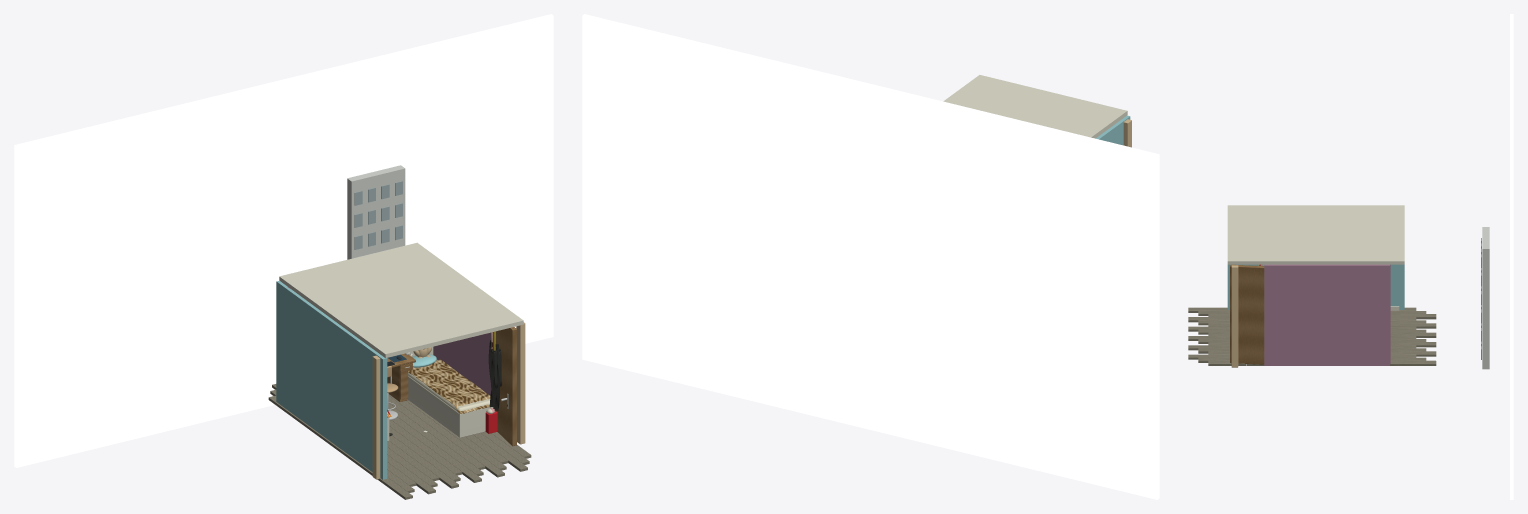
Rendered from astra.glb.
3 views of the same model, side by side, from view 1: azimuth 30°, elevation 25°; view 2: azimuth 150°, elevation 25°; view 3: azimuth 270°, elevation 25° (orthographic). The views are drawn at different scales.
Parts seen in each view (by area): view 1: Distant daylight, Ceiling, Left turquoise plaster wall, Neighbor building, Right side wall, Open oak door leaf, Right patterned duvet, Right bed storage plinth, Door jamb left, Door jamb right; view 2: Distant daylight, Ceiling; view 3: Right side wall, Ceiling, Open oak door leaf, Distant daylight, Neighbor building, Left turquoise plaster wall, Door jamb right.
Part boxes in pixels (<box>): Distant daylight: <box>14,14,553,467</box>; Ceiling: <box>279,242,523,358</box>; Left turquoise plaster wall: <box>276,281,387,479</box>; Neighbor building: <box>347,165,405,259</box>; Right side wall: <box>433,332,491,395</box>; Open oak door leaf: <box>495,327,516,446</box>; Right patterned duvet: <box>407,359,490,413</box>; Right bed storage plinth: <box>407,377,493,437</box>; Door jamb left: <box>372,355,380,479</box>; Door jamb right: <box>516,322,525,444</box>; Distant daylight: <box>582,14,1159,499</box>; Ceiling: <box>943,75,1127,138</box>; Right side wall: <box>1264,264,1389,365</box>; Ceiling: <box>1227,205,1404,264</box>; Open oak door leaf: <box>1230,264,1264,364</box>; Distant daylight: <box>1510,14,1513,499</box>; Neighbor building: <box>1482,227,1489,369</box>; Left turquoise plaster wall: <box>1227,264,1404,309</box>; Door jamb right: <box>1231,265,1238,367</box>.
Bounding box in the file's own units: 14 × 8 × 8.81.
Materials: 36 (4 with a texture image).
